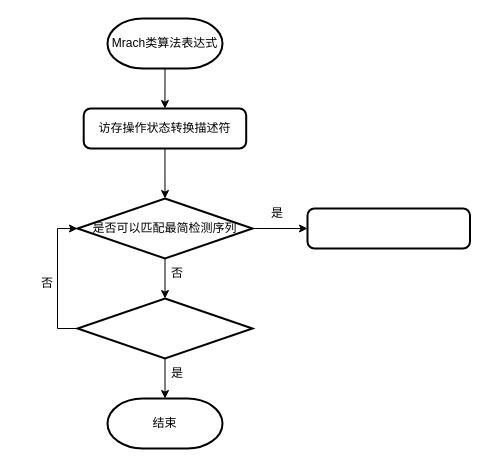
Image size: 488x466. Some labels were removed from this diagram. Here are the shapes that lost their labels. From the top down, the centre of each, then its label:
At pixel 388 228: "记录能检测的故障".
At pixel 164 328: "是否对比完成".
